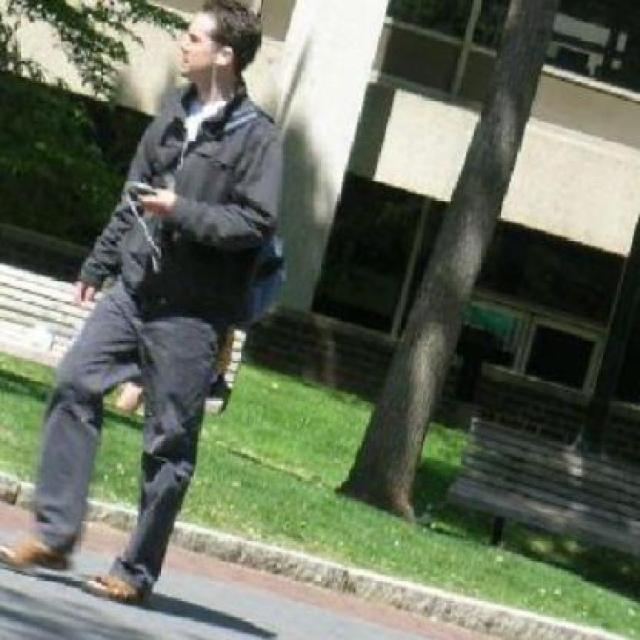obstacle: (0, 2, 289, 604)
